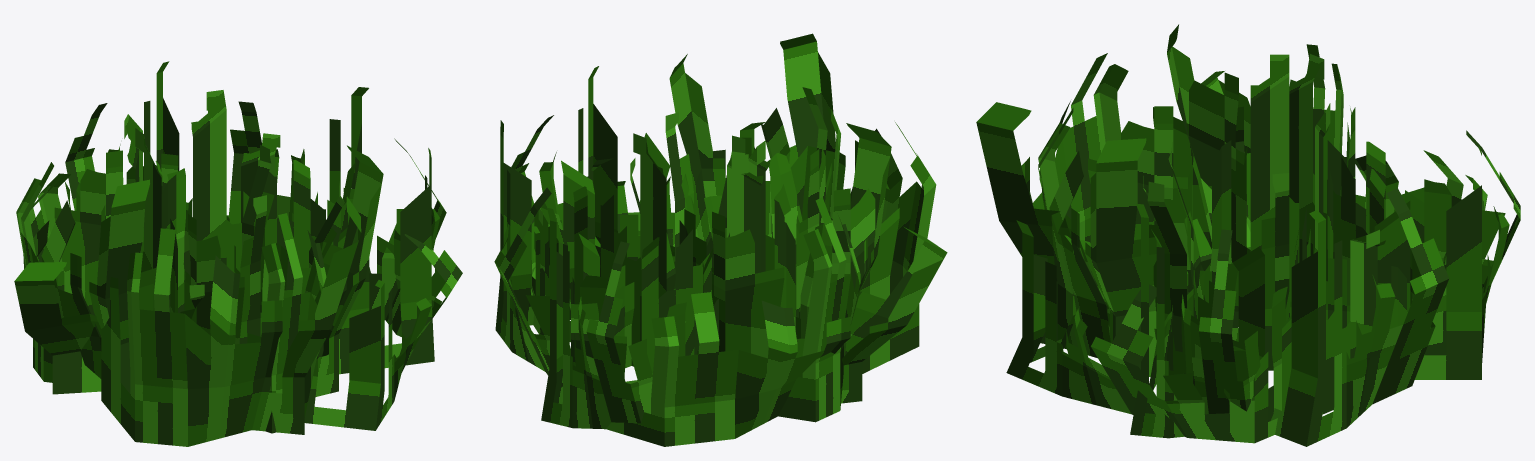
Rendered from pixelated_grass.glb.
3 views of the same model, side by side, from view 1: azimuth 30°, elevation 25°; view 2: azimuth 150°, elevation 25°; view 3: azimuth 270°, elevation 25° (orthographic). The views are drawn at different scales.
Parts seen in each view (by area): view 1: cube_1, cube_2, cube_0, cube_3; view 2: cube_1, cube_2, cube_3, cube_0; view 3: cube_1, cube_0, cube_3, cube_2.
Boxes of the visible parts, x1=… form: cube_1: x1=101, y1=87, x2=370, y2=446; cube_2: x1=16, y1=90, x2=446, y2=393; cube_0: x1=64, y1=61, x2=383, y2=433; cube_3: x1=14, y1=133, x2=462, y2=430; cube_1: x1=494, y1=33, x2=936, y2=387; cube_2: x1=511, y1=66, x2=891, y2=422; cube_3: x1=529, y1=122, x2=947, y2=446; cube_0: x1=541, y1=54, x2=840, y2=429; cube_1: x1=976, y1=53, x2=1448, y2=446; cube_0: x1=1038, y1=54, x2=1520, y2=379; cube_3: x1=1006, y1=71, x2=1487, y2=443; cube_2: x1=1130, y1=24, x2=1355, y2=438.
Size of the model in its own units: 1.34 by 0.7656 by 1.34.
Materials: 1 (1 with a texture image).
